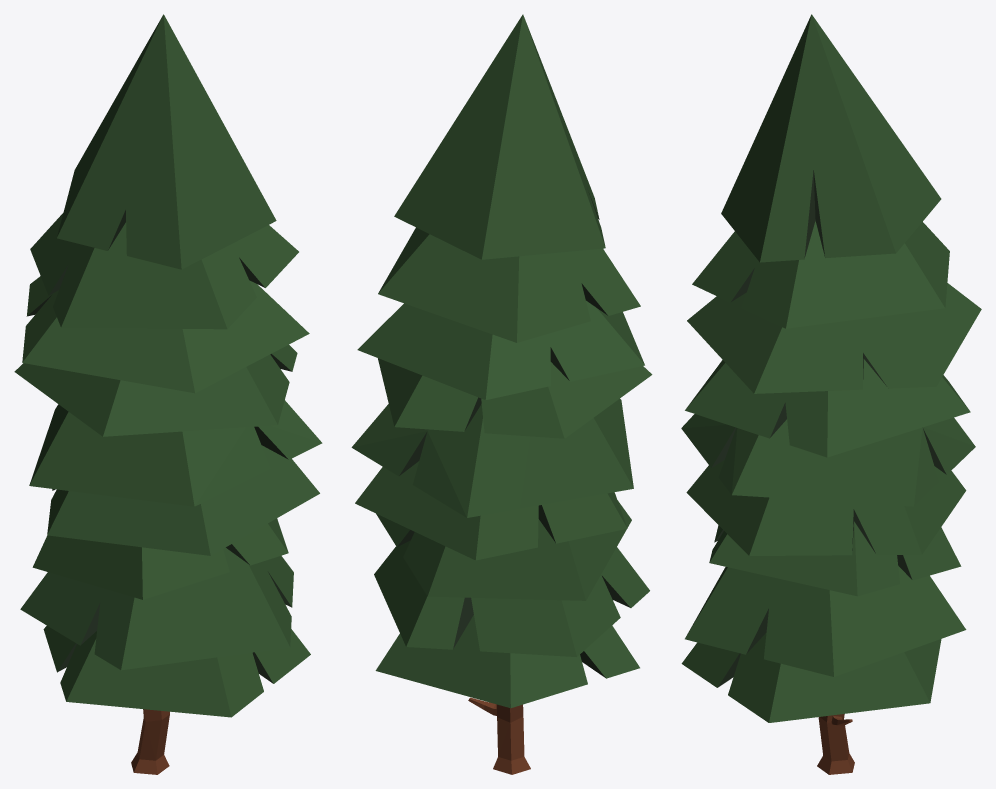
The model's file is 1-1treeB.fbx.
3 renders of one model, left to right at view 1: azimuth 30°, elevation 25°; view 2: azimuth 150°, elevation 25°; view 3: azimuth 270°, elevation 25°, orthographic. The views are drawn at different scales.
Visible parts, largest first — view 1: Pine_Variant_A_Darker_Adult_D.008; view 2: Pine_Variant_A_Darker_Adult_D.008; view 3: Pine_Variant_A_Darker_Adult_D.008.
Part boxes in pixels (x1,y1,x2,y2): Pine_Variant_A_Darker_Adult_D.008: (14, 14, 322, 774); Pine_Variant_A_Darker_Adult_D.008: (351, 14, 652, 774); Pine_Variant_A_Darker_Adult_D.008: (681, 14, 981, 774).
Size of the model in its own units: 703 by 1861 by 673.
